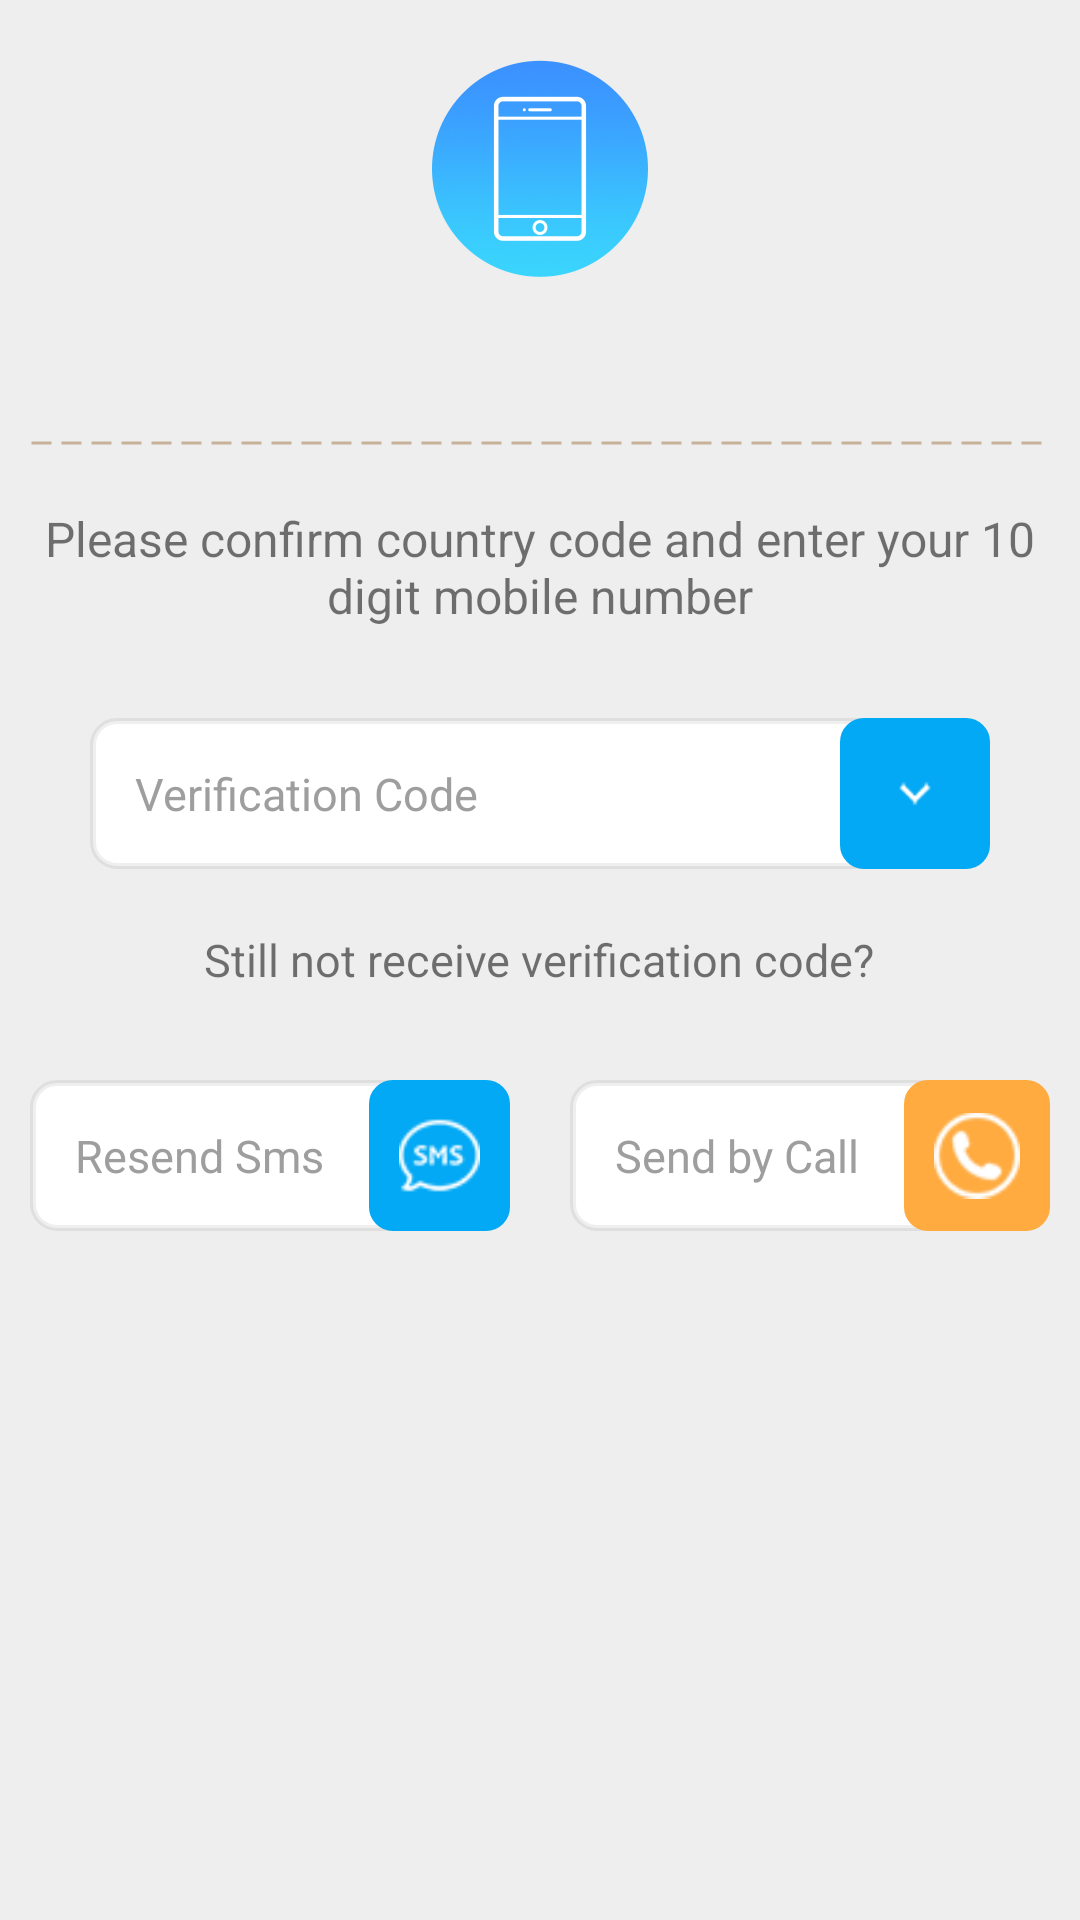

Icon bounding boxes for this 1080px×1920px phone screenshot, format {"left": x1, "top": y1, "right": x2, "bottom": y2}:
downarrow: {"left": 840, "top": 718, "right": 990, "bottom": 869}
mob: {"left": 432, "top": 60, "right": 648, "bottom": 277}
